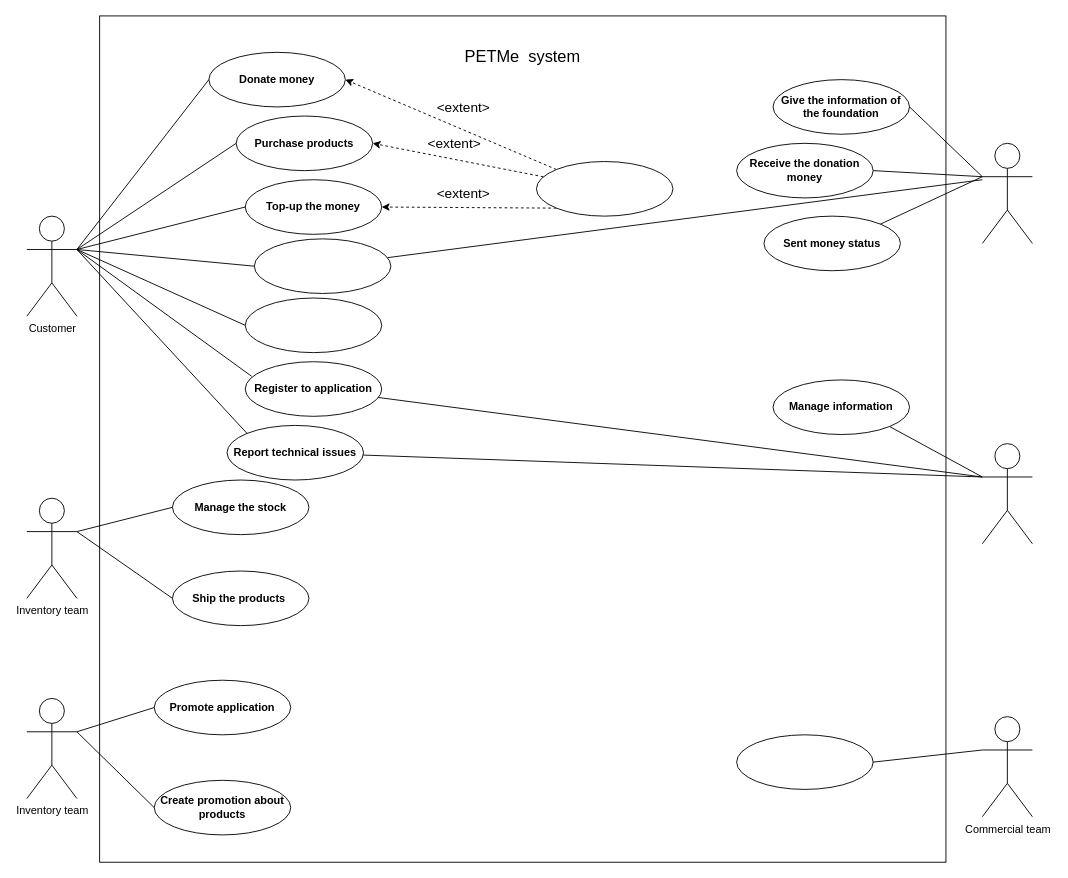
The diagram is 1068 pixels wide and 878 high, and some of its shapes have lost their labels. Each missing label, with the centre of its shape:
"Administrator team" belongs at point 1006,493.
"Do payment" belongs at point 604,188.
"Foundation" belongs at point 1006,192.
"Manage the money system" belongs at point 804,761.
"Play game" belongs at point 313,325.
"Track money" belongs at point 322,265.
